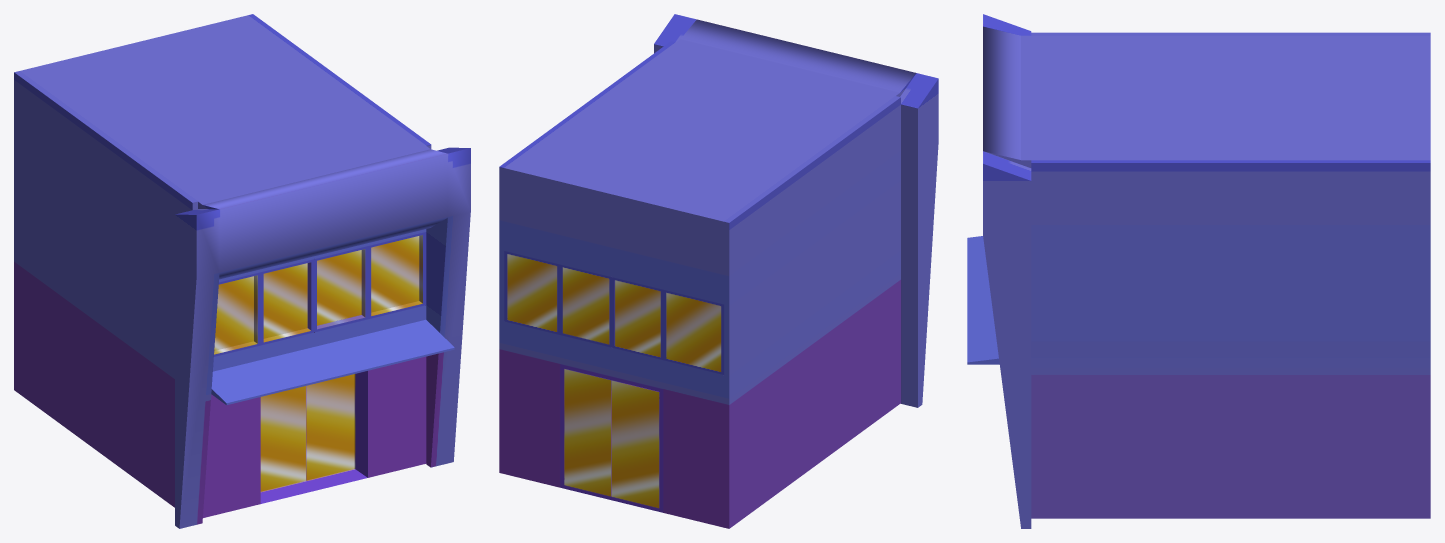
Rendered from Adam_Building_6.fbx.
3 views of the same model, side by side, from view 1: azimuth 30°, elevation 25°; view 2: azimuth 150°, elevation 25°; view 3: azimuth 270°, elevation 25° (orthographic). The views are drawn at different scales.
Parts seen in each view (by area): view 1: Bldg_Combo_3:Adam_Building6; view 2: Bldg_Combo_3:Adam_Building6; view 3: Bldg_Combo_3:Adam_Building6.
Part boxes in pixels (left/top/right/bottom): Bldg_Combo_3:Adam_Building6: left=14, top=14, right=470, bottom=528; Bldg_Combo_3:Adam_Building6: left=499, top=14, right=938, bottom=528; Bldg_Combo_3:Adam_Building6: left=967, top=14, right=1430, bottom=528.
Size of the model in its own units: 4.74 by 5.4 by 6.2.
1 material, 1 textured.
